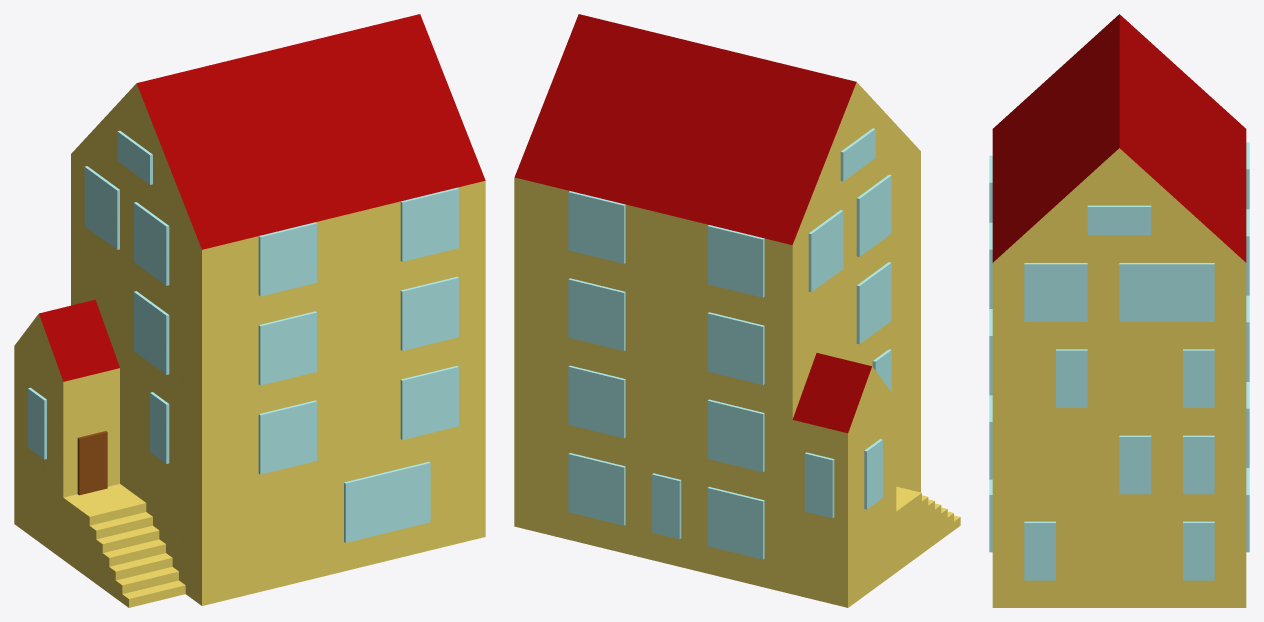
Rendered from house6.fbx.
3 views of the same model, side by side, from view 1: azimuth 30°, elevation 25°; view 2: azimuth 150°, elevation 25°; view 3: azimuth 270°, elevation 25° (orthographic). The views are drawn at different scales.
Visible parts, largest first — view 1: House6; view 2: House6; view 3: House6.
Boxes of the visible parts, x1,y1,x2,y2 form: House6: [14, 14, 485, 607]; House6: [514, 14, 960, 607]; House6: [989, 14, 1249, 607].
Bounding box in the file's own units: 1830 × 2400 × 1230.
